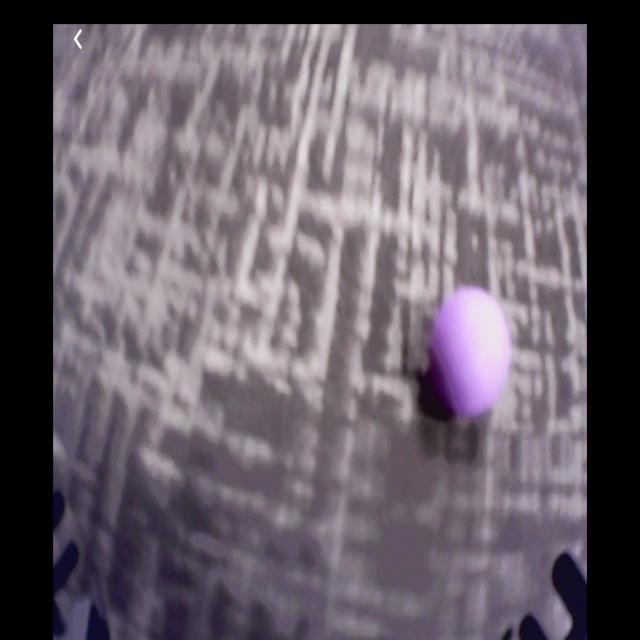ball: (433, 287, 509, 420)
